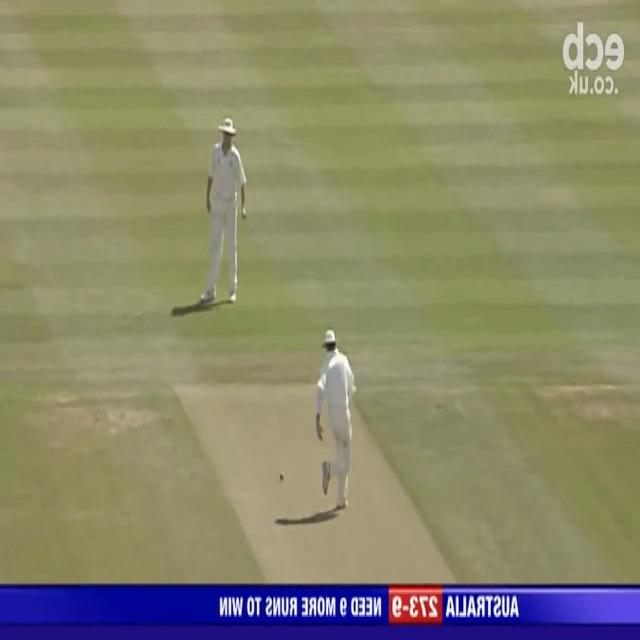ball: (278, 466, 287, 486)
